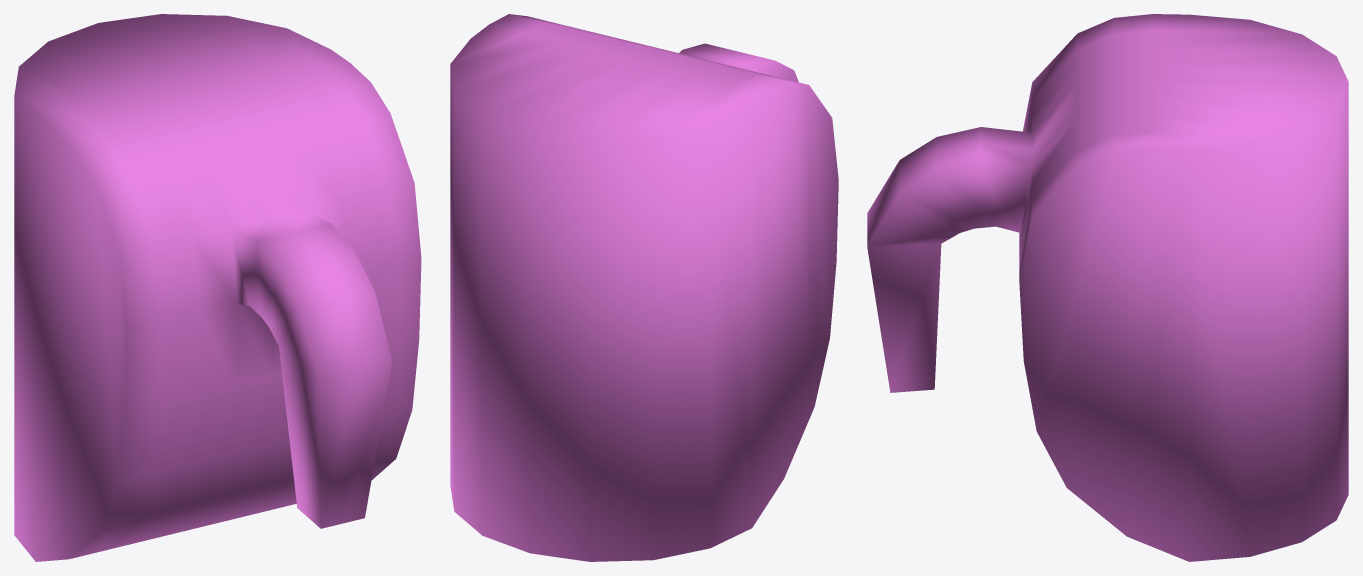
File: jarra2.gltf
3 views of the same model, side by side, from view 1: azimuth 30°, elevation 25°; view 2: azimuth 150°, elevation 25°; view 3: azimuth 270°, elevation 25° (orthographic). The views are drawn at different scales.
Visible parts, largest first — view 1: Plane.001; view 2: Plane.001; view 3: Plane.001.
Boxes of the visible parts, <box> form: Plane.001: <box>14,14,421,561</box>; Plane.001: <box>450,14,838,561</box>; Plane.001: <box>867,14,1348,561</box>.
Bounding box in the file's own units: 2.07 × 2.96 × 3.13.
